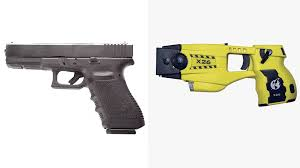gun: (1, 37, 147, 136)
